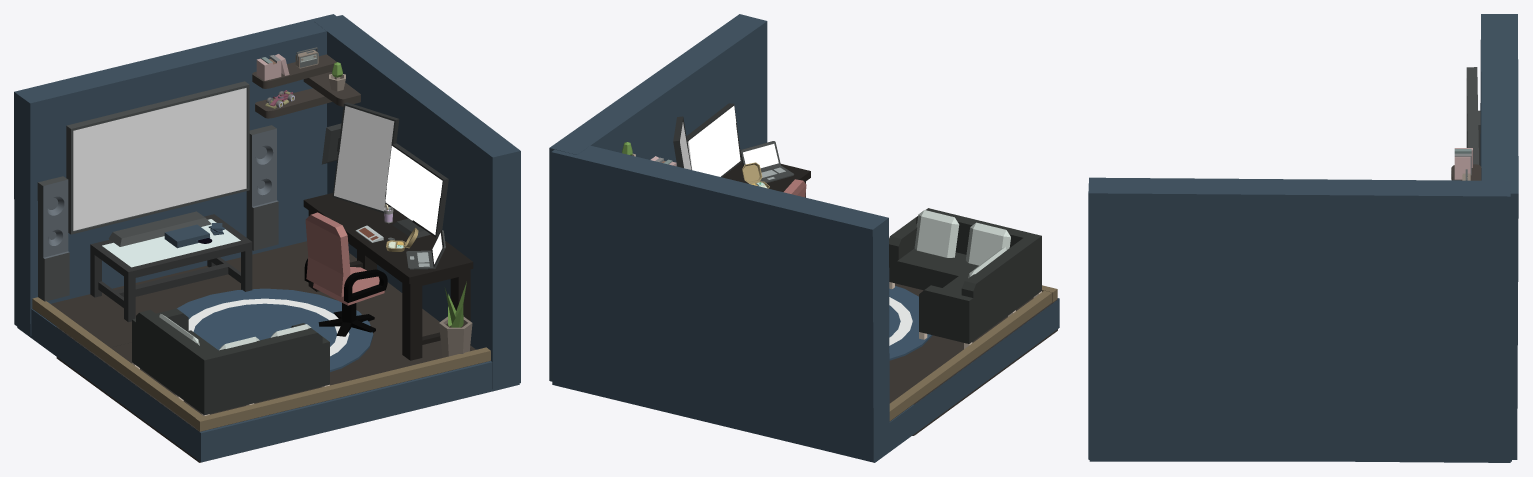
File: SpotifyHouse6.gltf
The picture shows the model from 3 angles, left to right: view 1: azimuth 30°, elevation 25°; view 2: azimuth 150°, elevation 25°; view 3: azimuth 270°, elevation 25°; orthographic projection. The views are drawn at different scales.
Visible parts, largest first — view 1: Cube__2__1, Cube__1_, Plane.003, Cube_1, loungeSofaCorner, floorCorner, sideTable, rugRound, tableGlass, Plane.001, televisionModern, Cube.003 (+16 smaller); view 2: Cube__2__1, Cube__1_, loungeSofaCorner, Cube_1, Cube.002, Plane, floorCorner, rugRound, pillow, pillow__1_, floorFull, sideTable (+3 smaller); view 3: Cube__1_, Cube__2__1, televisionModern, books__1_.
Boxes of the visible parts, x1,y1,x2,y2 form: Cube__2__1: (14,14,336,335); Cube__1_: (314,15,520,389); Plane.003: (73,88,246,230); Cube_1: (17,308,519,462); loungeSofaCorner: (132,308,329,415); floorCorner: (56,241,489,462); sideTable: (303,193,473,360); rugRound: (177,288,373,371); tableGlass: (90,214,252,322); Plane.001: (334,106,394,211); televisionModern: (66,81,249,246); Cube.003: (195,347,490,431); Cube__2__1: (551,145,889,462); Cube__1_: (549,14,767,381); loungeSofaCorner: (889,208,1041,348); Cube_1: (867,298,1059,462); Cube.002: (889,290,1052,420); Plane: (689,106,740,176); floorCorner: (889,283,1057,435); rugRound: (889,286,932,360); pillow: (914,210,959,257); pillow__1_: (966,222,1010,265); floorFull: (889,364,947,421); sideTable: (722,162,810,197); Cube__1_: (1088,177,1511,462); Cube__2__1: (1480,14,1518,459); televisionModern: (1466,67,1478,164); books__1_: (1454,148,1472,179).
Size of the model in its own units: 1.01 by 0.6992 by 1.01.
